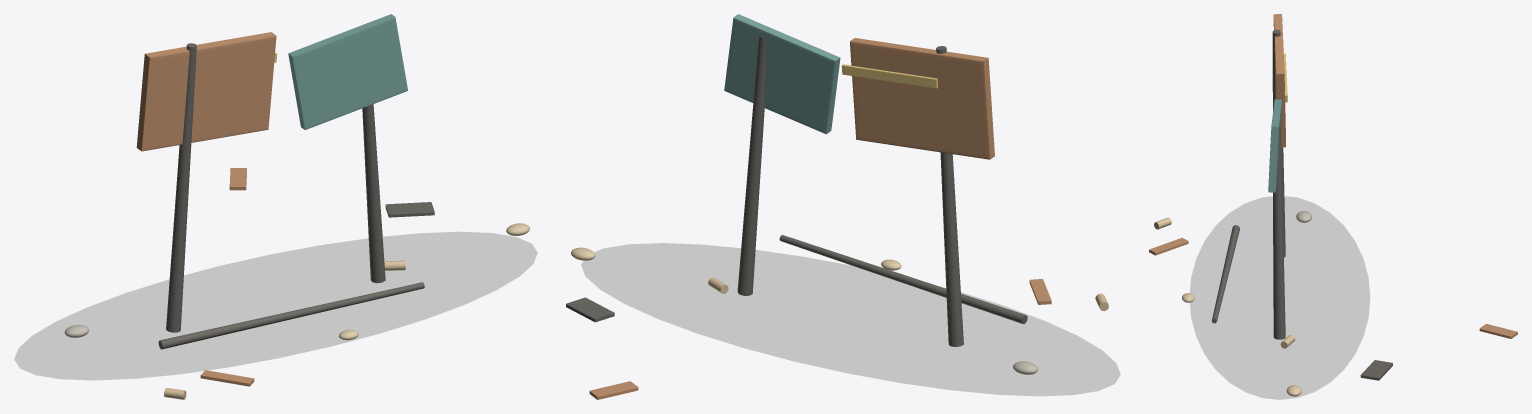
The model's file is ruined_billboard.glb.
3 views of the same model, side by side, from view 1: azimuth 30°, elevation 25°; view 2: azimuth 150°, elevation 25°; view 3: azimuth 270°, elevation 25° (orthographic). The views are drawn at different scales.
Parts seen in each view (by area): view 1: painted_contact_shadow, broken_billboard_left_panel, broken_billboard_right_panel, left_billboard_post, right_billboard_post, fallen_sign_support, loose_scrap_flake_3, loose_scrap_flake_2; view 2: painted_contact_shadow, broken_billboard_left_panel, broken_billboard_right_panel, right_billboard_post, left_billboard_post, fallen_sign_support, old_ad_stripe, loose_scrap_flake_3, loose_scrap_flake_4; view 3: painted_contact_shadow, right_billboard_post, broken_billboard_left_panel, broken_billboard_right_panel, fallen_sign_support, left_billboard_post, loose_scrap_flake_3, loose_scrap_flake_4.
Part boxes in pixels (box(x1,y1,x2,y2)): painted_contact_shadow: box(14, 232, 536, 380); broken_billboard_left_panel: box(136, 32, 276, 151); broken_billboard_right_panel: box(288, 14, 408, 129); left_billboard_post: box(166, 43, 196, 332); right_billboard_post: box(362, 104, 385, 283); fallen_sign_support: box(158, 282, 424, 349); loose_scrap_flake_3: box(385, 202, 434, 217); loose_scrap_flake_2: box(200, 370, 254, 386); painted_contact_shadow: box(581, 243, 1120, 395); broken_billboard_left_panel: box(850, 38, 994, 159); broken_billboard_right_panel: box(724, 14, 840, 134); right_billboard_post: box(737, 35, 765, 295); left_billboard_post: box(936, 46, 963, 346); fallen_sign_support: box(779, 235, 1027, 324); old_ad_stripe: box(841, 64, 937, 88); loose_scrap_flake_3: box(566, 297, 614, 322); loose_scrap_flake_4: box(589, 381, 638, 399); painted_contact_shadow: box(1190, 196, 1369, 399); right_billboard_post: box(1273, 123, 1285, 339); broken_billboard_left_panel: box(1273, 14, 1285, 147); broken_billboard_right_panel: box(1268, 99, 1281, 192); fallen_sign_support: box(1212, 225, 1239, 323); left_billboard_post: box(1272, 29, 1285, 257); loose_scrap_flake_3: box(1360, 360, 1392, 380); loose_scrap_flake_4: box(1479, 324, 1517, 338).
Size of the model in its own units: 3.14 by 1.64 by 2.36.
